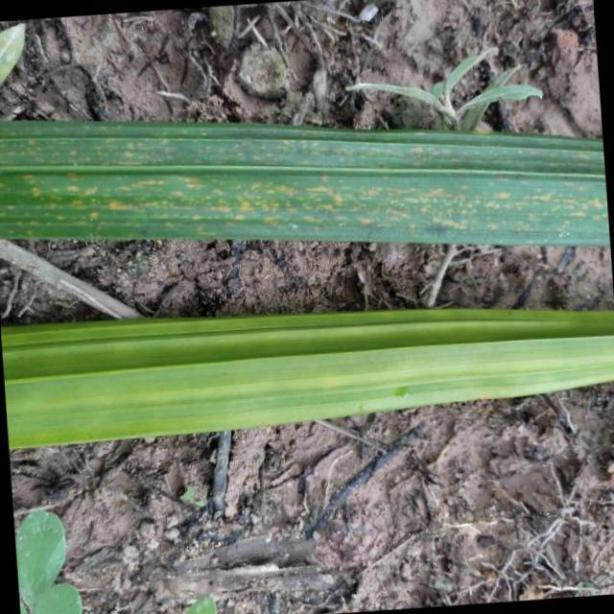nitrogen: (0, 301, 614, 452), (5, 112, 614, 246)
